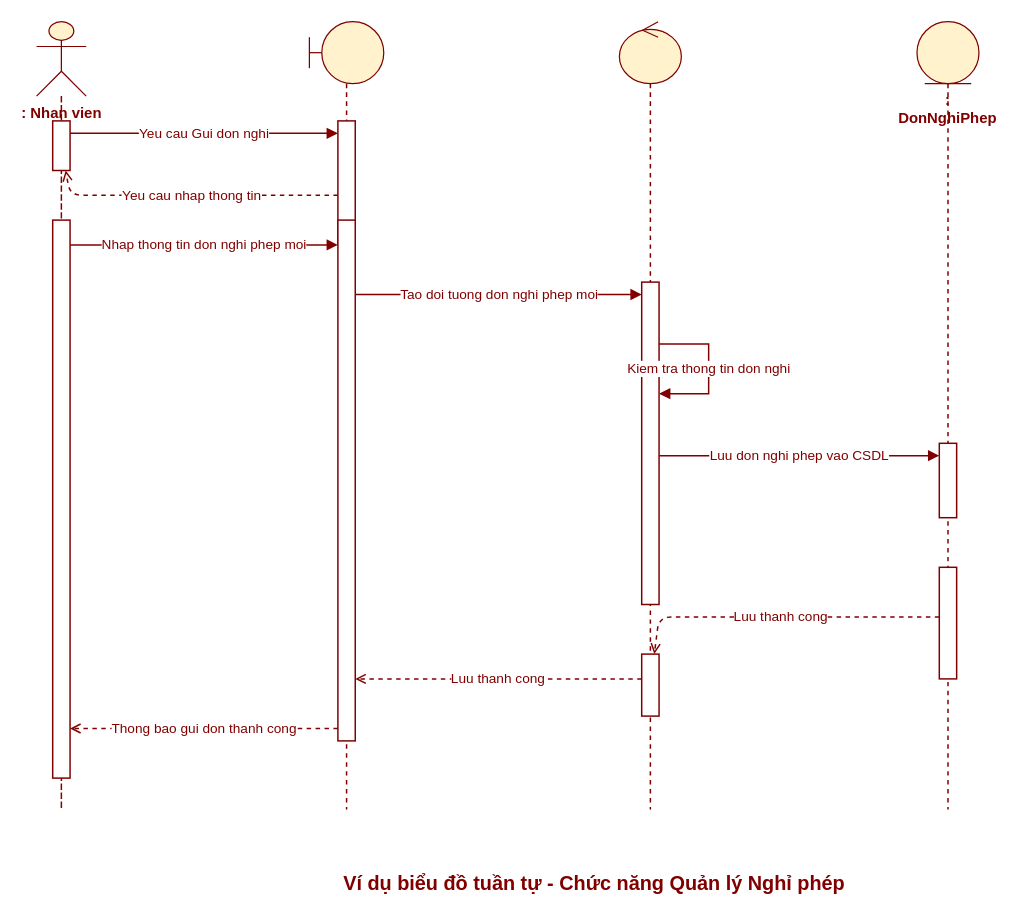
Image size: 1018x924. Some labels were removed from this diagram. Each missing label, with the centre of its shape:
: DK_NghiPhep: the point at 649,52
: FormGuiNghiPhep: the point at 346,52
